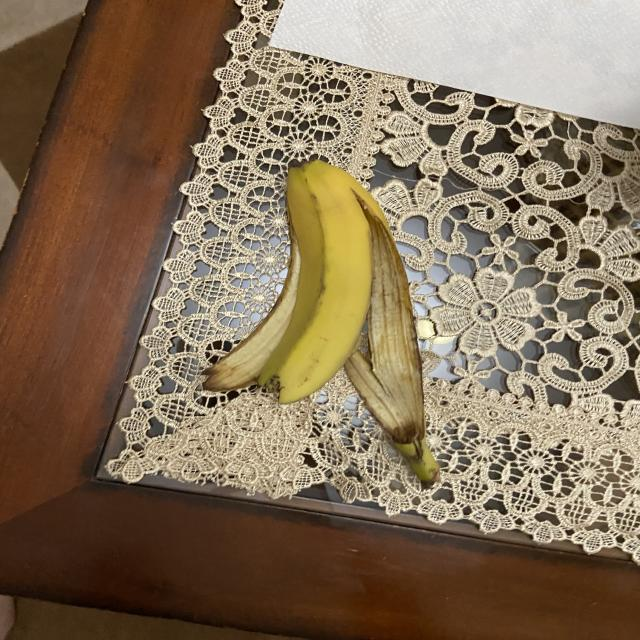banana-peel: (200, 156, 441, 487), (342, 186, 440, 486)
